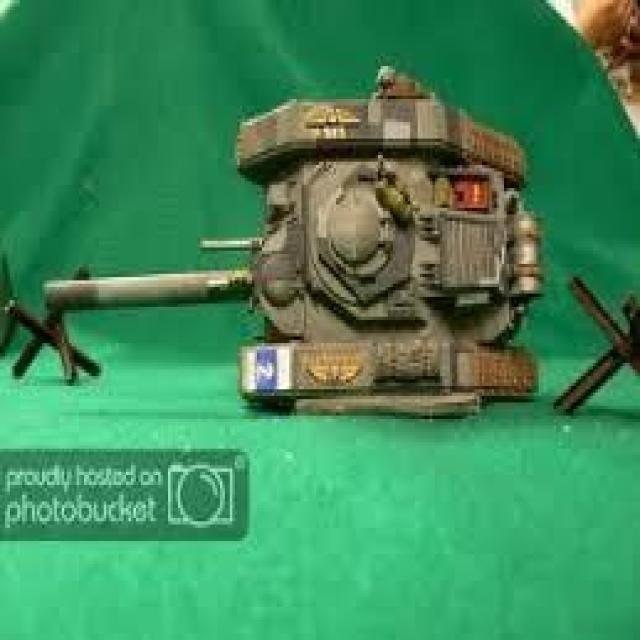Tanks: (42, 78, 554, 430)
